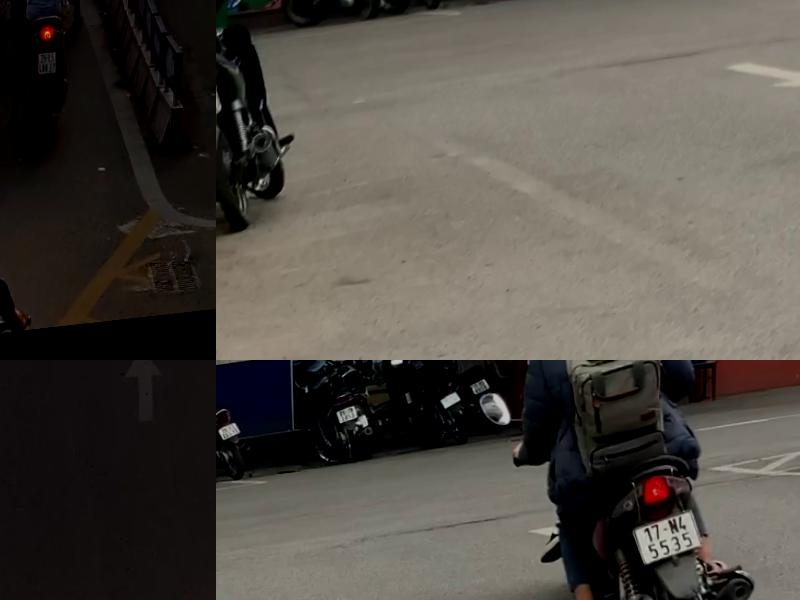license_plate: (633, 522, 704, 580), (218, 423, 242, 446), (334, 410, 358, 432), (469, 386, 492, 405), (441, 398, 462, 418), (39, 64, 58, 86)
motorcyclist: (510, 360, 760, 600), (20, 0, 78, 161)
